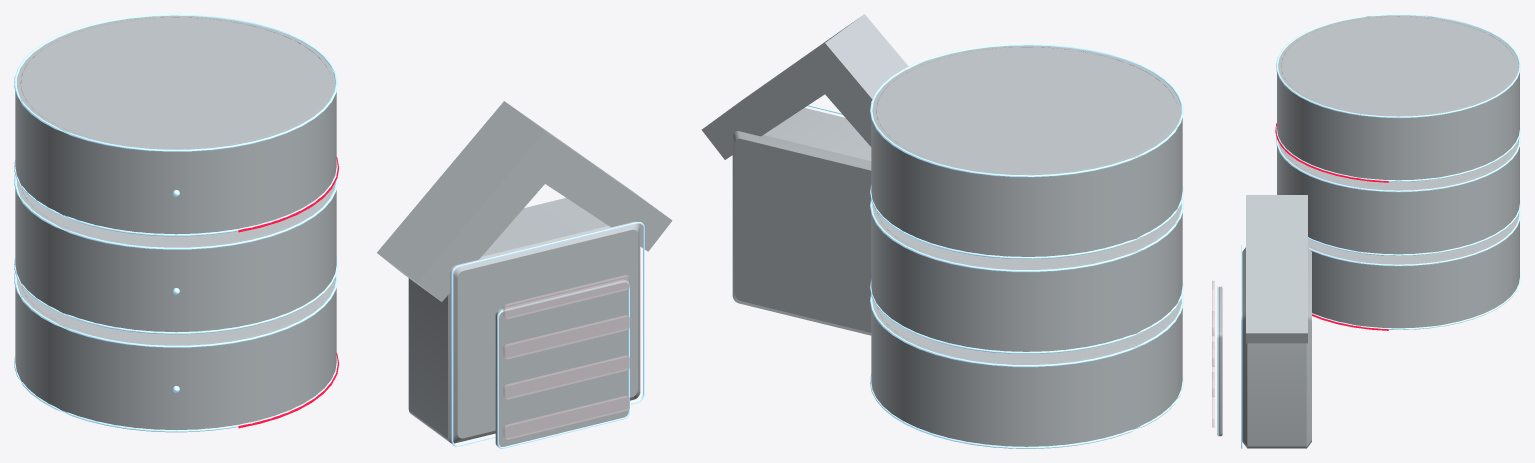
The model's file is 33-warehouse.glb.
3 views of the same model, side by side, from view 1: azimuth 30°, elevation 25°; view 2: azimuth 150°, elevation 25°; view 3: azimuth 270°, elevation 25° (orthographic). The views are drawn at different scales.
Visible parts, largest first — view 1: BC thin clear technical glass, BC cool glass edge, BC subtle ruby technical glass, BC ruby signal edge; view 2: BC thin clear technical glass, BC cool glass edge; view 3: BC thin clear technical glass, BC cool glass edge, BC ruby signal edge, BC subtle ruby technical glass.
Boxes of the visible parts, x1=… form: BC thin clear technical glass: x1=15, y1=15, x2=672, y2=446; BC cool glass edge: x1=14, y1=14, x2=644, y2=448; BC subtle ruby technical glass: x1=503, y1=274, x2=629, y2=440; BC ruby signal edge: x1=238, y1=157, x2=338, y2=428; BC thin clear technical glass: x1=701, y1=14, x2=1182, y2=446; BC cool glass edge: x1=807, y1=43, x2=1183, y2=448; BC thin clear technical glass: x1=1218, y1=15, x2=1519, y2=448; BC cool glass edge: x1=1217, y1=14, x2=1520, y2=448; BC ruby signal edge: x1=1275, y1=123, x2=1388, y2=330; BC subtle ruby technical glass: x1=1212, y1=280, x2=1214, y2=427.
Size of the model in its own units: 2.12 by 1.26 by 1.4.
